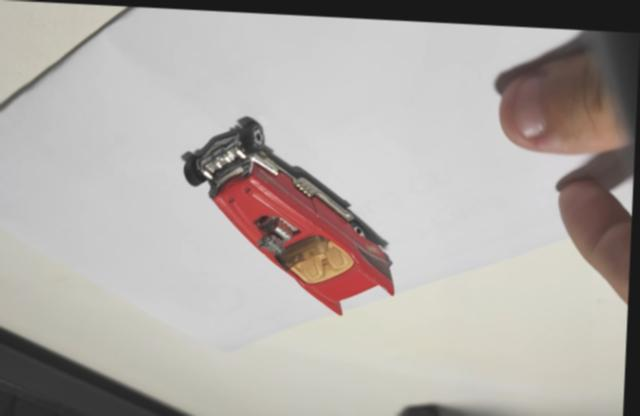03_V8: (182, 112, 398, 311)
